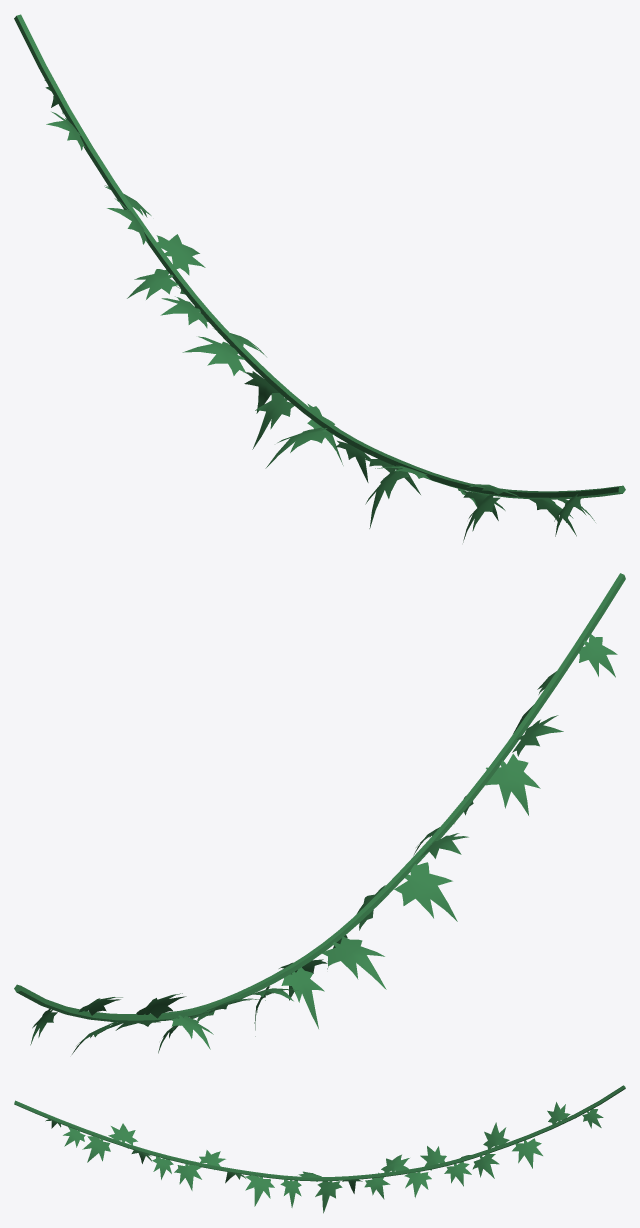
File: vine_hori_B_alangium.fbx
3 renders of one model, top to bottom at view 1: azimuth 30°, elevation 25°; view 2: azimuth 150°, elevation 25°; view 3: azimuth 270°, elevation 25°, orthographic. The views are drawn at different scales.
Visible parts, largest first — view 1: vine_hori_B_alangium_root, vine_alangium_A_leaf_B302, vine_alangium_A_leaf_B293, vine_alangium_A_leaf_B301, vine_alangium_A_leaf_B291; view 2: vine_hori_B_alangium_root, vine_alangium_A_leaf_B299, vine_alangium_A_leaf_B306, vine_alangium_A_leaf_B300, vine_alangium_A_leaf_B301, vine_alangium_A_leaf_B284; view 3: vine_hori_B_alangium_root, vine_alangium_A_leaf_B288, vine_alangium_A_leaf_B295, vine_alangium_A_leaf_B, vine_alangium_A_leaf_B305, vine_alangium_A_leaf_B307, vine_alangium_A_leaf_B303, vine_alangium_A_leaf_B292, vine_alangium_A_leaf_B293, vine_alangium_A_leaf_B283, vine_alangium_A_leaf_B294, vine_alangium_A_leaf_B298 (+8 smaller).
Boxes of the visible parts, box(x1,y1,x2,y2) form: vine_hori_B_alangium_root: box(14, 14, 625, 499); vine_alangium_A_leaf_B302: box(182, 336, 245, 375); vine_alangium_A_leaf_B293: box(156, 234, 205, 275); vine_alangium_A_leaf_B301: box(252, 393, 294, 449); vine_alangium_A_leaf_B291: box(127, 269, 178, 299); vine_hori_B_alangium_root: box(14, 573, 625, 1022); vine_alangium_A_leaf_B299: box(394, 862, 457, 921); vine_alangium_A_leaf_B306: box(485, 753, 540, 815); vine_alangium_A_leaf_B300: box(322, 936, 386, 989); vine_alangium_A_leaf_B301: box(281, 967, 324, 1028); vine_alangium_A_leaf_B284: box(579, 634, 617, 677); vine_hori_B_alangium_root: box(14, 1085, 625, 1181); vine_alangium_A_leaf_B288: box(512, 1138, 542, 1168); vine_alangium_A_leaf_B295: box(245, 1175, 274, 1206); vine_alangium_A_leaf_B: box(82, 1136, 110, 1162); vine_alangium_A_leaf_B305: box(315, 1180, 342, 1213); vine_alangium_A_leaf_B307: box(174, 1163, 201, 1190); vine_alangium_A_leaf_B303: box(404, 1171, 431, 1197); vine_alangium_A_leaf_B292: box(483, 1122, 509, 1149); vine_alangium_A_leaf_B293: box(472, 1153, 499, 1178); vine_alangium_A_leaf_B283: box(108, 1123, 137, 1145); vine_alangium_A_leaf_B294: box(444, 1161, 471, 1186); vine_alangium_A_leaf_B298: box(420, 1146, 446, 1170).
Bounding box in the file's own units: 50.51 × 101 × 460.
